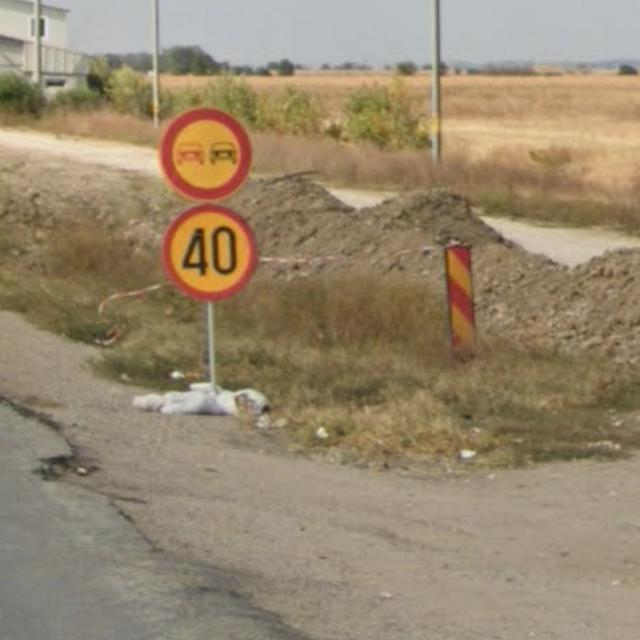forb_overtake: (160, 109, 252, 202)
forb_speed_over_40: (161, 204, 259, 303)
